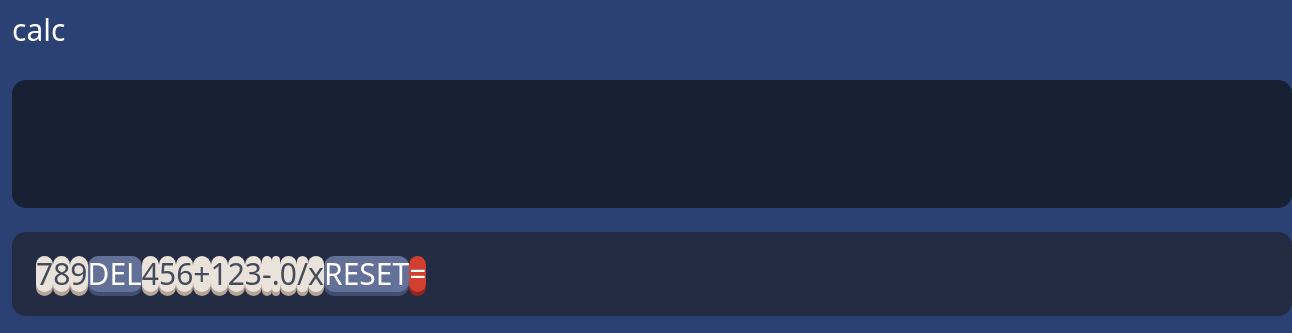
Test: calculator › should delete one character
Click the button with test id "key-number" showing "2" at (236,274), box [228, 256, 245, 292]
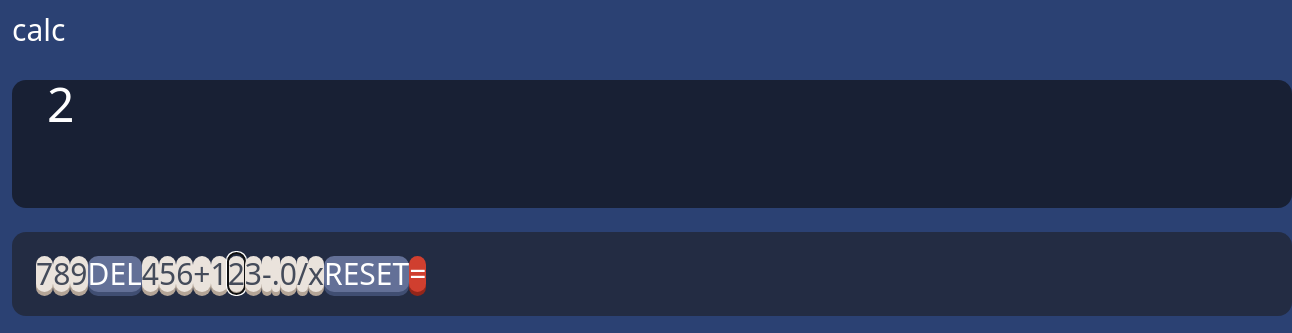
Click the button with test id "key-number" showing "5" at (168,274), box [159, 256, 176, 292]
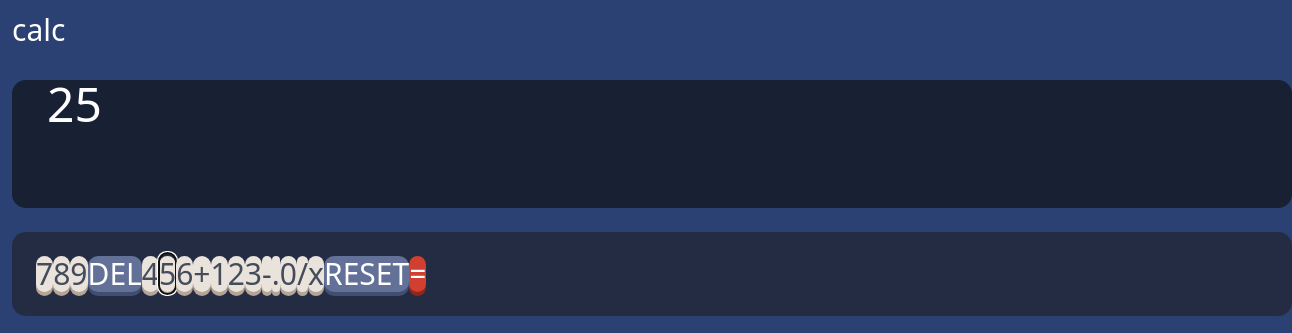
Expected: the text "25" is shown, [12, 80, 1291, 208]
Click the button with test id "key-del" at (115,274), box [88, 256, 142, 292]
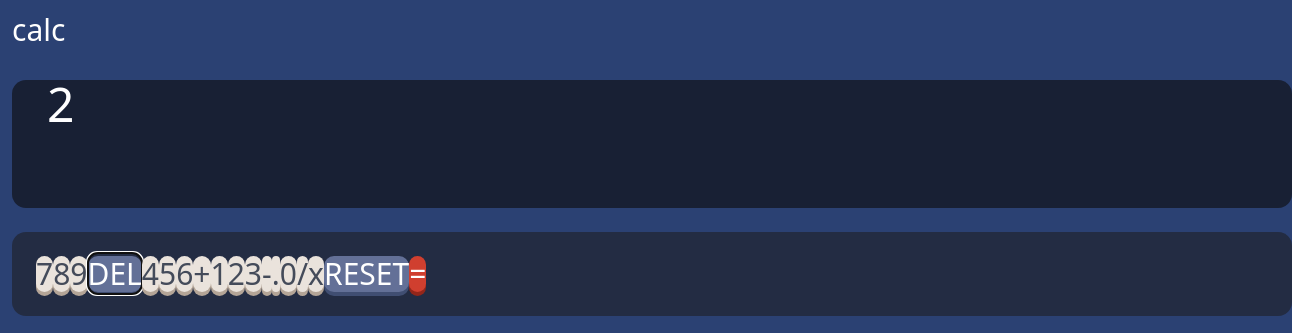
Expected: the text "2" is shown, [12, 80, 1291, 208]
Click the button with test id "key-number" showing "5" at (168,274), box [159, 256, 176, 292]
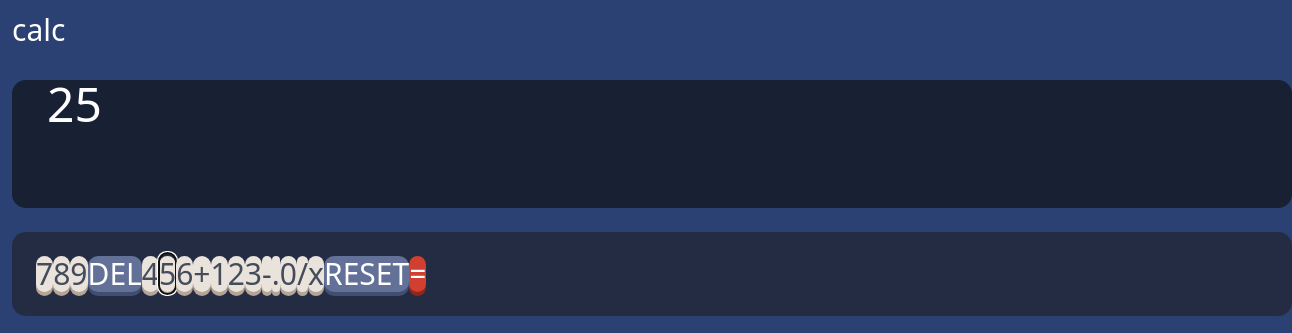
Click the button with test id "key-sum" at (202,274), box [193, 256, 210, 292]
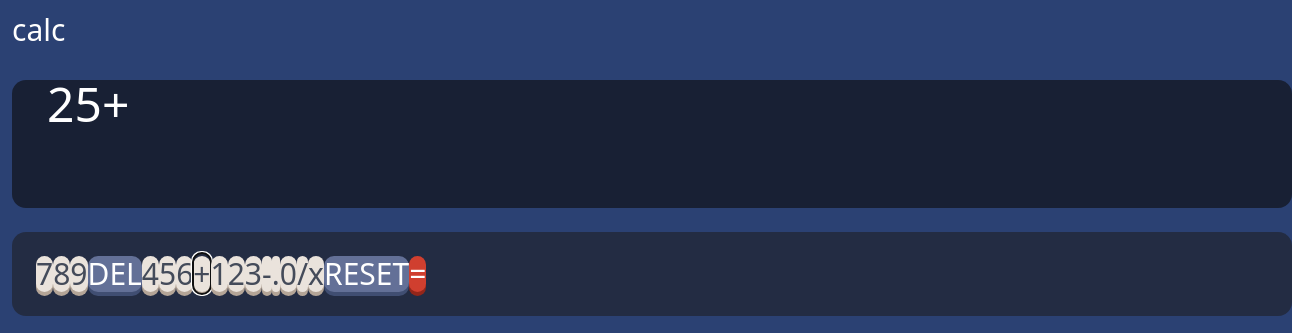
Expected: the text "25+" is shown, [12, 80, 1291, 208]
Click the button with test id "key-del" at (115,274), box [88, 256, 142, 292]
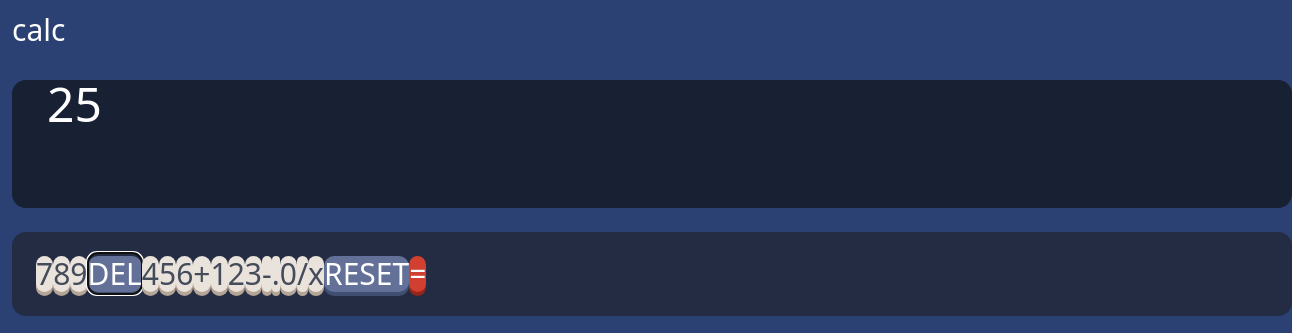
Expected: the text "25" is shown, [12, 80, 1291, 208]
